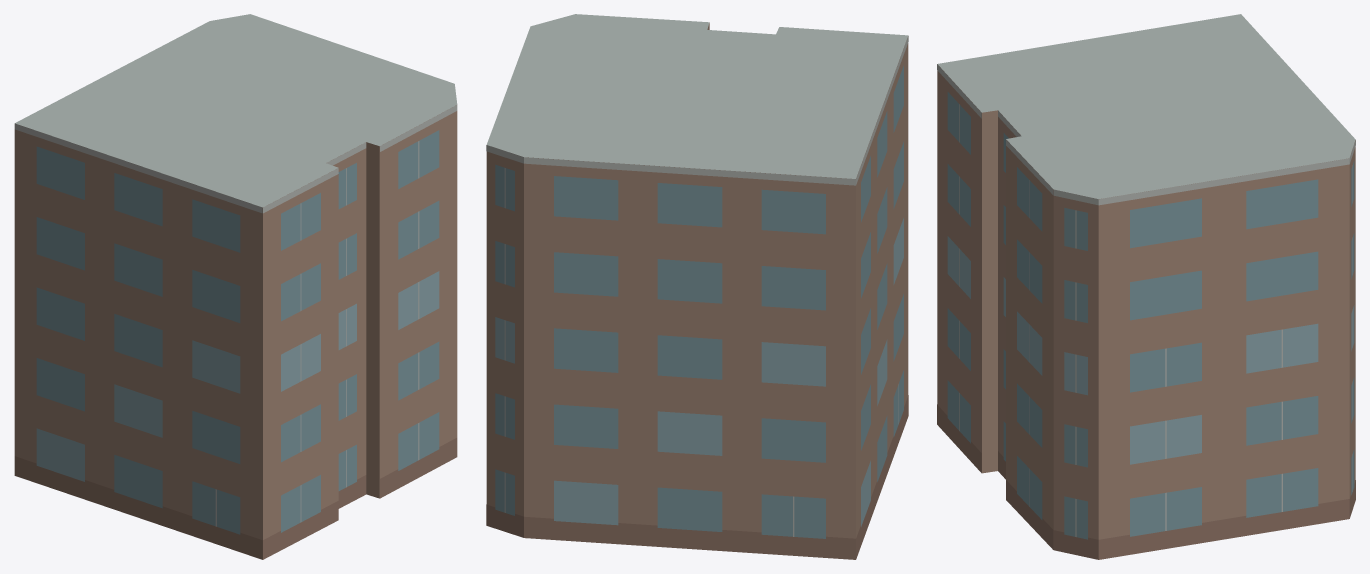
The model's file is survey-upis-33018163.glb.
3 views of the same model, side by side, from view 1: azimuth 30°, elevation 25°; view 2: azimuth 150°, elevation 25°; view 3: azimuth 270°, elevation 25° (orthographic). The views are drawn at different scales.
Visible parts, largest first — view 1: survey-upis-33018163.tmp; view 2: survey-upis-33018163.tmp; view 3: survey-upis-33018163.tmp.
Part boxes in pixels (x1,y1,x2,y2): survey-upis-33018163.tmp: (14,14,457,559); survey-upis-33018163.tmp: (486,14,908,559); survey-upis-33018163.tmp: (937,14,1355,559).
Size of the model in its own units: 15.64 by 14.2 by 14.94.
